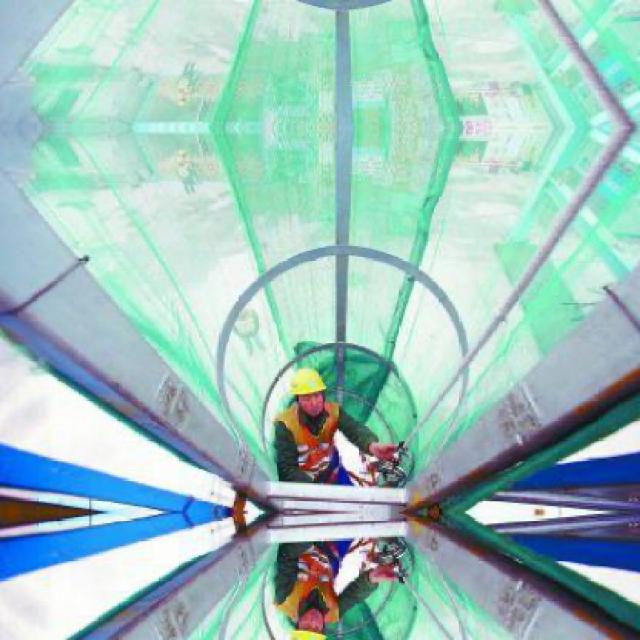helmet: (288, 360, 334, 420), (286, 603, 334, 639)
